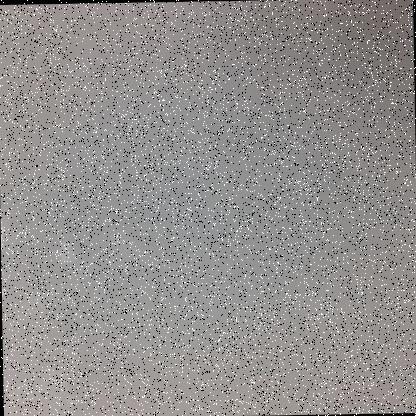Nocrack: (0, 6, 407, 415)
